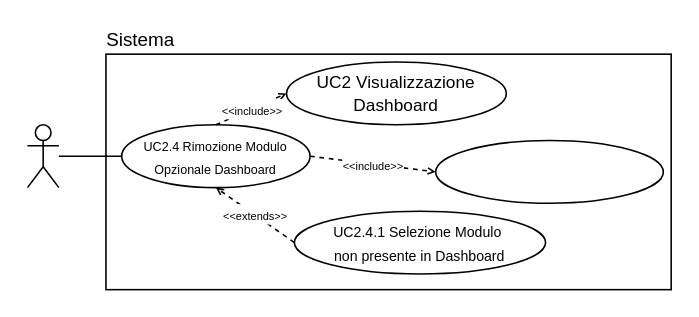
This 699x317 diagram has some shape labels left out. The centre of each missing label's shape, as x and y in pixels:
UC2.3.1 Selezione Modulo già presente: the point at 548,171
Utente: the point at 42,155
